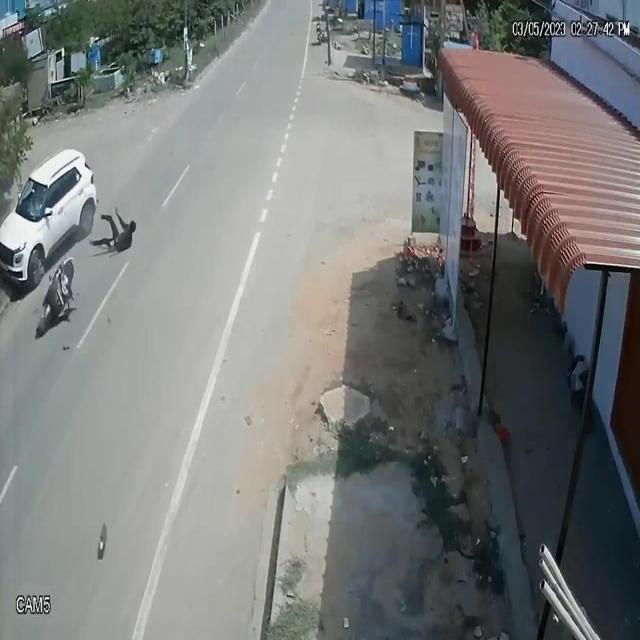accident: (0, 145, 138, 339)
